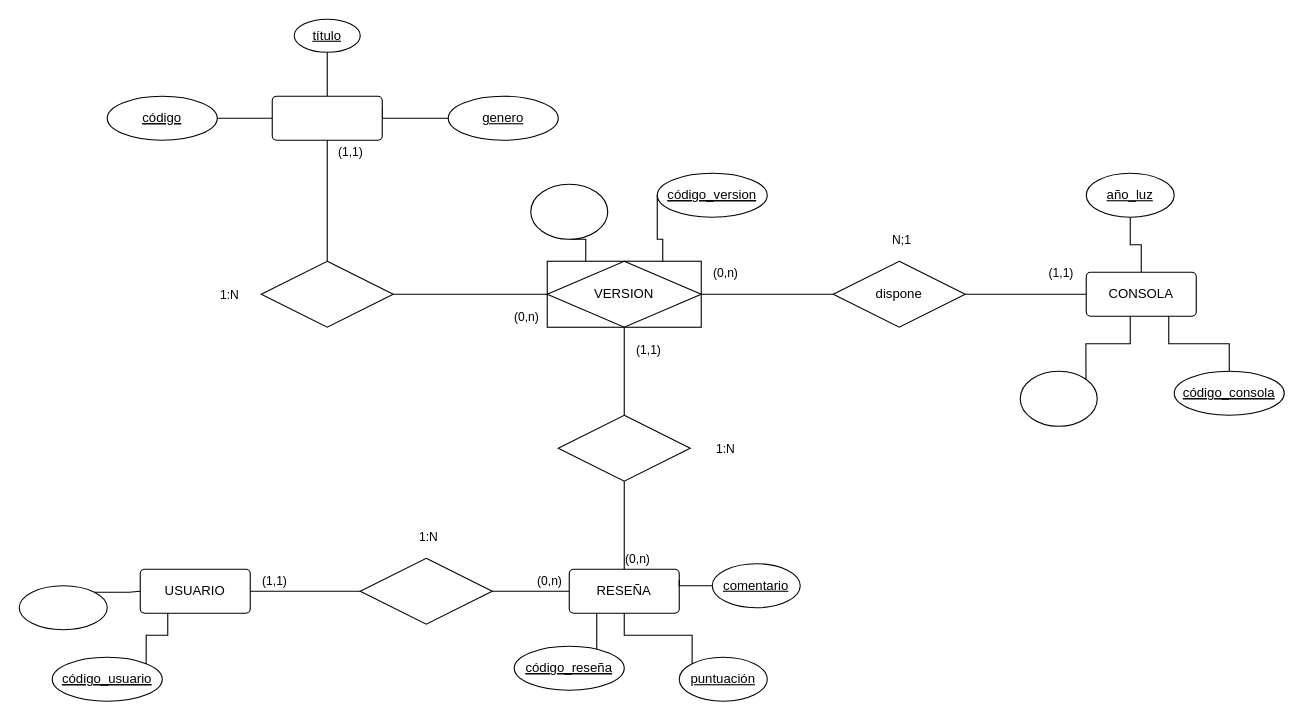
Some shapes in this 1304 by 721 pixel diagram are drawn without their labels. The shapes that lost their labels are listed below. From the top down, each one's centre as x and y in pixels, then its label:
At [326,117]: "JUEGO".
At [569,211]: "precio_inicial".
At [326,293]: "tiene".
At [1058,398]: "nombre".
At [623,447]: "recibe".
At [62,607]: "alias".
At [425,590]: "escribe".
